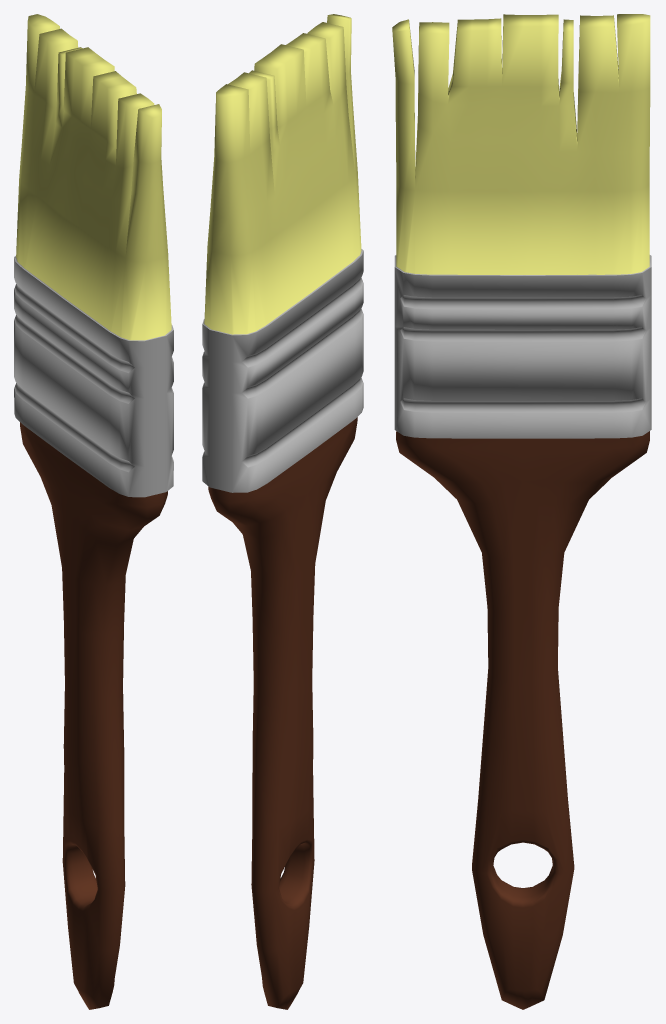
Rendered from paintBrushV2.gltf.
The picture shows the model from 3 angles, left to right: view 1: azimuth 30°, elevation 25°; view 2: azimuth 150°, elevation 25°; view 3: azimuth 270°, elevation 25°; orthographic projection. The views are drawn at different scales.
Parts seen in each view (by area): view 1: Cube.005; view 2: Cube.005; view 3: Cube.005.
Boxes of the visible parts, x1,y1,x2,y2 form: Cube.005: (14, 14, 173, 1009); Cube.005: (202, 14, 363, 1009); Cube.005: (392, 14, 651, 1009).
Bounding box in the file's own units: 1.15 × 18.27 × 4.33.
